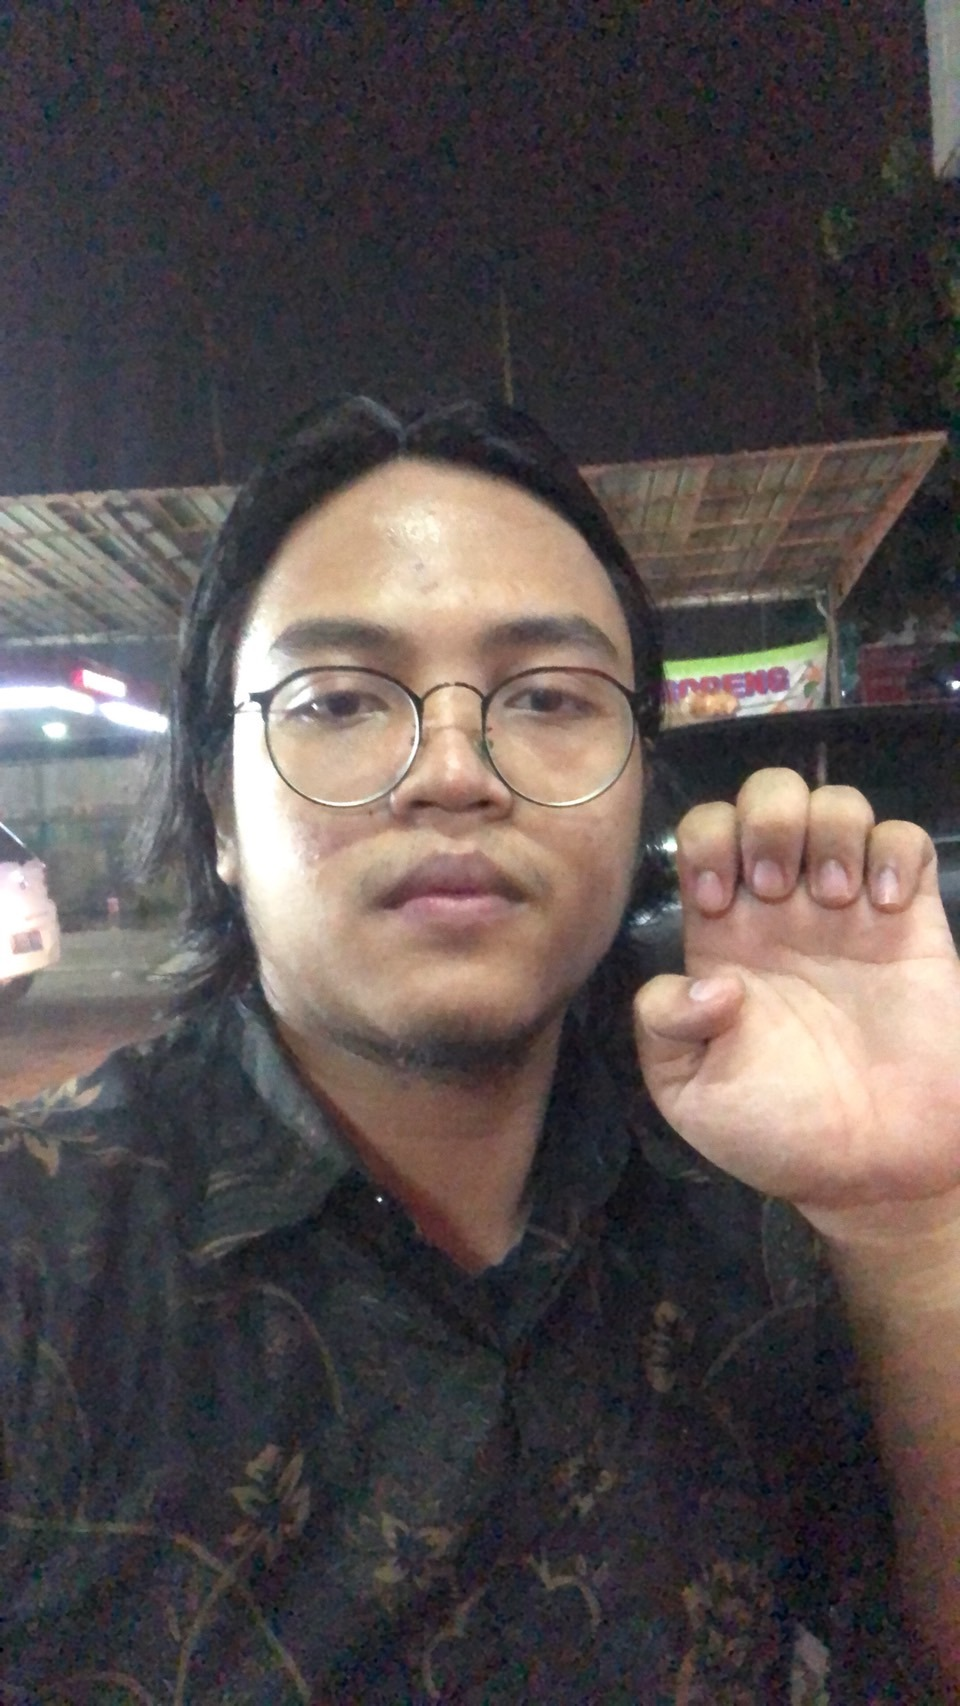E: (627, 762, 960, 1221)
